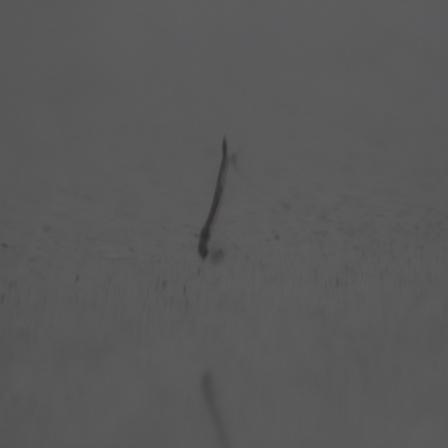Jentik-Nyamuk: (190, 128, 237, 266)
